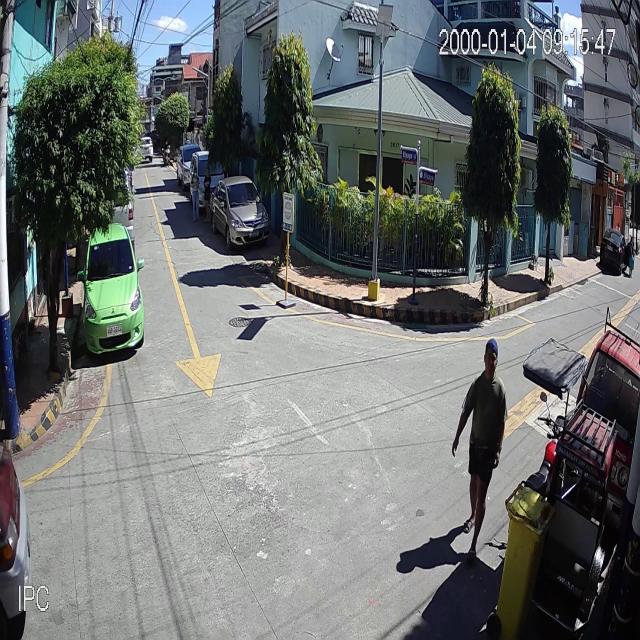walking: (454, 335, 508, 547)
